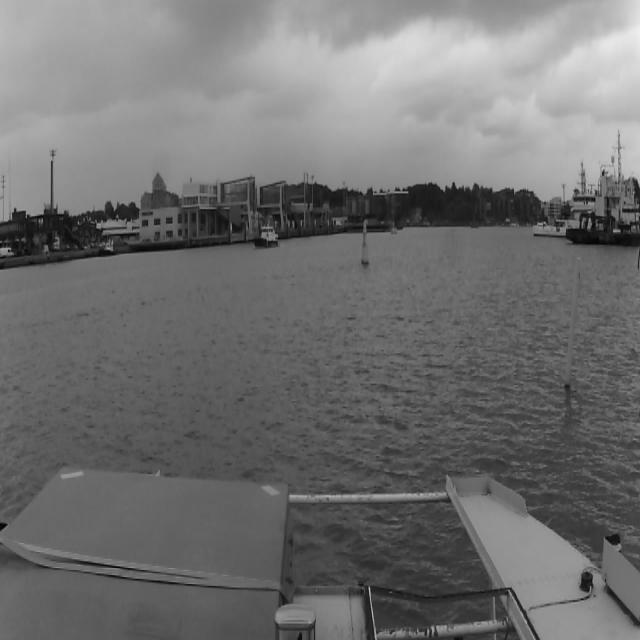buoy: (563, 256, 585, 391), (362, 214, 368, 268)
ship: (529, 136, 637, 237), (256, 216, 279, 252)
